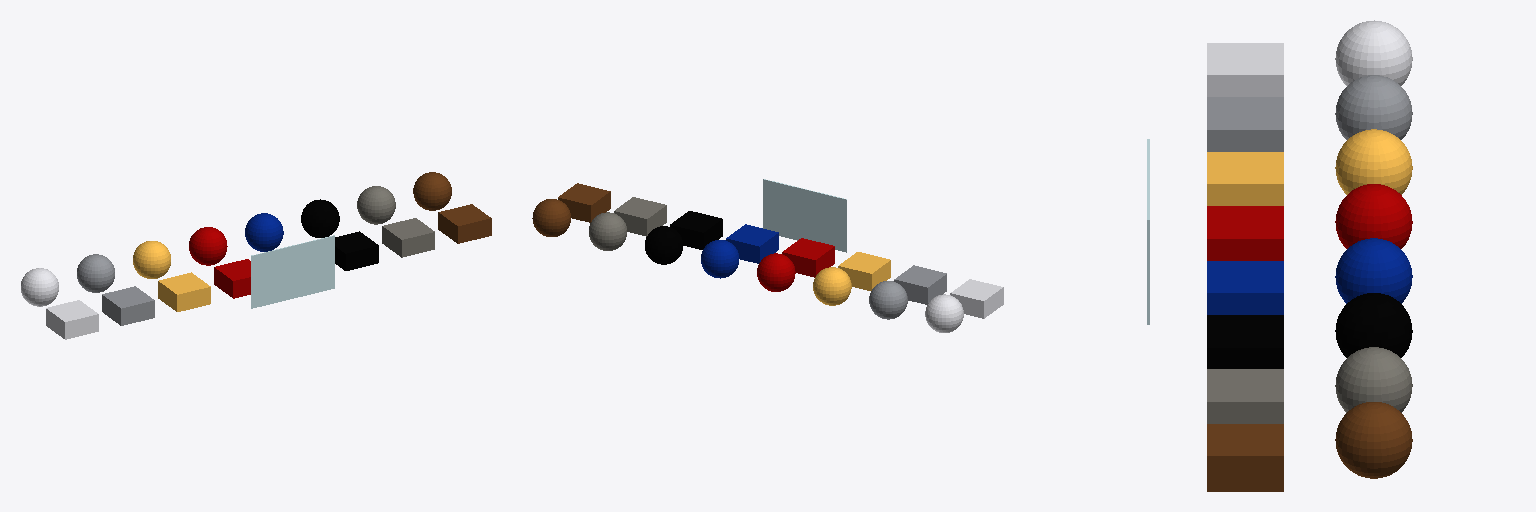
The robot description file, URDF, robot "materials":
<?xml version="1.0"?>
<!-- One ball and one block of each kind of surface, in a row, with a pane of glass in front. -->
<robot name="materials">
  <link name="world"/>
  <link name="chrome_ball"><visual><origin xyz="0 0 0.6"/><geometry><sphere radius="0.6"/></geometry><material name="chrome"><color rgba="0.9 0.9 0.92 1"/></material></visual></link>
  <joint name="chrome_ball_fix" type="fixed"><parent link="world"/><child link="chrome_ball"/><origin xyz="-6 0 0"/></joint>
  <gazebo reference="chrome_ball"><visual_material preset="chrome"/></gazebo>
  <link name="chrome_block"><visual><origin xyz="0 0 0.3"/><geometry><box size="1.2 1.2 0.6"/></geometry><material name="chrome_b"><color rgba="0.9 0.9 0.92 1"/></material></visual></link>
  <joint name="chrome_block_fix" type="fixed"><parent link="world"/><child link="chrome_block"/><origin xyz="-6 -2 0"/></joint>
  <gazebo reference="chrome_block"><visual_material preset="chrome"/></gazebo>
  <link name="steel_ball"><visual><origin xyz="0 0 0.6"/><geometry><sphere radius="0.6"/></geometry><material name="steel"><color rgba="0.6 0.61 0.63 1"/></material></visual></link>
  <joint name="steel_ball_fix" type="fixed"><parent link="world"/><child link="steel_ball"/><origin xyz="-4 0 0"/></joint>
  <gazebo reference="steel_ball"><visual_material preset="steel"/></gazebo>
  <link name="steel_block"><visual><origin xyz="0 0 0.3"/><geometry><box size="1.2 1.2 0.6"/></geometry><material name="steel_b"><color rgba="0.6 0.61 0.63 1"/></material></visual></link>
  <joint name="steel_block_fix" type="fixed"><parent link="world"/><child link="steel_block"/><origin xyz="-4 -2 0"/></joint>
  <gazebo reference="steel_block"><visual_material preset="steel"/></gazebo>
  <link name="gold_ball"><visual><origin xyz="0 0 0.6"/><geometry><sphere radius="0.6"/></geometry><material name="gold"><color rgba="1 0.77 0.34 1"/></material></visual></link>
  <joint name="gold_ball_fix" type="fixed"><parent link="world"/><child link="gold_ball"/><origin xyz="-2 0 0"/></joint>
  <gazebo reference="gold_ball"><visual_material preset="gold"/></gazebo>
  <link name="gold_block"><visual><origin xyz="0 0 0.3"/><geometry><box size="1.2 1.2 0.6"/></geometry><material name="gold_b"><color rgba="1 0.77 0.34 1"/></material></visual></link>
  <joint name="gold_block_fix" type="fixed"><parent link="world"/><child link="gold_block"/><origin xyz="-2 -2 0"/></joint>
  <gazebo reference="gold_block"><visual_material preset="gold"/></gazebo>
  <link name="red_lacquer_ball"><visual><origin xyz="0 0 0.6"/><geometry><sphere radius="0.6"/></geometry><material name="red_lacquer"><color rgba="0.7 0.03 0.03 1"/></material></visual></link>
  <joint name="red_lacquer_ball_fix" type="fixed"><parent link="world"/><child link="red_lacquer_ball"/><origin xyz="0 0 0"/></joint>
  <gazebo reference="red_lacquer_ball"><visual_material preset="lacquer"/></gazebo>
  <link name="red_lacquer_block"><visual><origin xyz="0 0 0.3"/><geometry><box size="1.2 1.2 0.6"/></geometry><material name="red_lacquer_b"><color rgba="0.7 0.03 0.03 1"/></material></visual></link>
  <joint name="red_lacquer_block_fix" type="fixed"><parent link="world"/><child link="red_lacquer_block"/><origin xyz="0 -2 0"/></joint>
  <gazebo reference="red_lacquer_block"><visual_material preset="lacquer"/></gazebo>
  <link name="blue_plastic_ball"><visual><origin xyz="0 0 0.6"/><geometry><sphere radius="0.6"/></geometry><material name="blue_plastic"><color rgba="0.05 0.2 0.6 1"/></material></visual></link>
  <joint name="blue_plastic_ball_fix" type="fixed"><parent link="world"/><child link="blue_plastic_ball"/><origin xyz="2 0 0"/></joint>
  <gazebo reference="blue_plastic_ball"><visual_material preset="plastic"/></gazebo>
  <link name="blue_plastic_block"><visual><origin xyz="0 0 0.3"/><geometry><box size="1.2 1.2 0.6"/></geometry><material name="blue_plastic_b"><color rgba="0.05 0.2 0.6 1"/></material></visual></link>
  <joint name="blue_plastic_block_fix" type="fixed"><parent link="world"/><child link="blue_plastic_block"/><origin xyz="2 -2 0"/></joint>
  <gazebo reference="blue_plastic_block"><visual_material preset="plastic"/></gazebo>
  <link name="rubber_ball"><visual><origin xyz="0 0 0.6"/><geometry><sphere radius="0.6"/></geometry><material name="rubber"><color rgba="0.03 0.03 0.03 1"/></material></visual></link>
  <joint name="rubber_ball_fix" type="fixed"><parent link="world"/><child link="rubber_ball"/><origin xyz="4 0 0"/></joint>
  <gazebo reference="rubber_ball"><visual_material preset="rubber"/></gazebo>
  <link name="rubber_block"><visual><origin xyz="0 0 0.3"/><geometry><box size="1.2 1.2 0.6"/></geometry><material name="rubber_b"><color rgba="0.03 0.03 0.03 1"/></material></visual></link>
  <joint name="rubber_block_fix" type="fixed"><parent link="world"/><child link="rubber_block"/><origin xyz="4 -2 0"/></joint>
  <gazebo reference="rubber_block"><visual_material preset="rubber"/></gazebo>
  <link name="concrete_ball"><visual><origin xyz="0 0 0.6"/><geometry><sphere radius="0.6"/></geometry><material name="concrete"><color rgba="0.5 0.49 0.46 1"/></material></visual></link>
  <joint name="concrete_ball_fix" type="fixed"><parent link="world"/><child link="concrete_ball"/><origin xyz="6 0 0"/></joint>
  <gazebo reference="concrete_ball"><visual_material preset="concrete"/></gazebo>
  <link name="concrete_block"><visual><origin xyz="0 0 0.3"/><geometry><box size="1.2 1.2 0.6"/></geometry><material name="concrete_b"><color rgba="0.5 0.49 0.46 1"/></material></visual></link>
  <joint name="concrete_block_fix" type="fixed"><parent link="world"/><child link="concrete_block"/><origin xyz="6 -2 0"/></joint>
  <gazebo reference="concrete_block"><visual_material preset="concrete"/></gazebo>
  <link name="wood_ball"><visual><origin xyz="0 0 0.6"/><geometry><sphere radius="0.6"/></geometry><material name="wood"><color rgba="0.45 0.28 0.14 1"/></material></visual></link>
  <joint name="wood_ball_fix" type="fixed"><parent link="world"/><child link="wood_ball"/><origin xyz="8 0 0"/></joint>
  <gazebo reference="wood_ball"><visual_material preset="wood"/></gazebo>
  <link name="wood_block"><visual><origin xyz="0 0 0.3"/><geometry><box size="1.2 1.2 0.6"/></geometry><material name="wood_b"><color rgba="0.45 0.28 0.14 1"/></material></visual></link>
  <joint name="wood_block_fix" type="fixed"><parent link="world"/><child link="wood_block"/><origin xyz="8 -2 0"/></joint>
  <gazebo reference="wood_block"><visual_material preset="wood"/></gazebo>
  <link name="glass_pane"><visual><origin xyz="0 0 0.9"/><geometry><box size="3 0.04 1.8"/></geometry><material name="glass"><color rgba="0.8 0.9 0.92 0.18"/></material></visual></link>
  <joint name="glass_fix" type="fixed"><parent link="world"/><child link="glass_pane"/><origin xyz="1 -3.5 0"/></joint>
</robot>

--- What the picture shows (computed from the rendered views, not written in the file) ---
Views: 3 orthographic renders of the robot side by side, from view 1: azimuth 30°, elevation 25°; view 2: azimuth 150°, elevation 25°; view 3: azimuth 270°, elevation 25°.
Model materials with 18 links and 17 joints (17 fixed), rooted at world, posed all joints at 0.
Links seen in each view (by area): view 1: glass_pane, wood_block, steel_block, chrome_block, gold_block, concrete_block, rubber_block, wood_ball, blue_plastic_ball, concrete_ball, red_lacquer_ball, chrome_ball (+4 smaller); view 2: glass_pane, chrome_block, concrete_block, wood_block, rubber_block, blue_plastic_block, red_lacquer_block, steel_block, gold_block, gold_ball, concrete_ball, chrome_ball (+5 smaller); view 3: wood_block, wood_ball, steel_block, red_lacquer_block, concrete_block, chrome_block, gold_block, blue_plastic_block, rubber_block, gold_ball, blue_plastic_ball, concrete_ball (+5 smaller).
Boxes of the visible links, x1,y1,x2,y2 form: glass_pane: (251, 235, 334, 308); wood_block: (438, 204, 491, 243); steel_block: (102, 286, 154, 325); chrome_block: (46, 300, 98, 339); gold_block: (158, 272, 210, 311); concrete_block: (382, 218, 434, 257); rubber_block: (335, 231, 378, 270); wood_ball: (413, 172, 451, 210); blue_plastic_ball: (245, 213, 283, 251); concrete_ball: (357, 186, 395, 224); red_lacquer_ball: (189, 227, 227, 265); chrome_ball: (21, 268, 58, 306); glass_pane: (763, 179, 846, 252); chrome_block: (950, 279, 1003, 318); concrete_block: (614, 197, 666, 236); wood_block: (558, 183, 610, 222); rubber_block: (670, 211, 722, 249); blue_plastic_block: (726, 224, 778, 263); red_lacquer_block: (782, 238, 834, 277); steel_block: (894, 265, 946, 304); gold_block: (838, 252, 890, 290); gold_ball: (813, 267, 851, 305); concrete_ball: (589, 212, 626, 250); chrome_ball: (925, 294, 963, 332); wood_block: (1207, 424, 1283, 491); wood_ball: (1335, 402, 1412, 478); steel_block: (1207, 97, 1283, 151); red_lacquer_block: (1207, 206, 1283, 260); concrete_block: (1207, 369, 1283, 423); chrome_block: (1207, 43, 1283, 96); gold_block: (1207, 152, 1283, 205); blue_plastic_block: (1207, 261, 1283, 314); rubber_block: (1207, 315, 1283, 368); gold_ball: (1335, 129, 1412, 194); blue_plastic_ball: (1335, 238, 1412, 303); concrete_ball: (1335, 347, 1412, 412).
Size in the robot's own frame: 15.2 by 4.12 by 1.8 metres.
Geometry: primitives only (box / cylinder / sphere), no mesh files.
